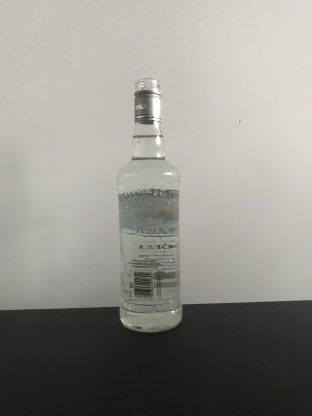nakretka: (132, 76, 162, 124)
